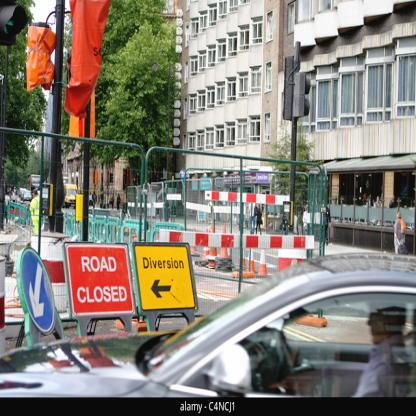Keep left: (13, 242, 60, 329)
